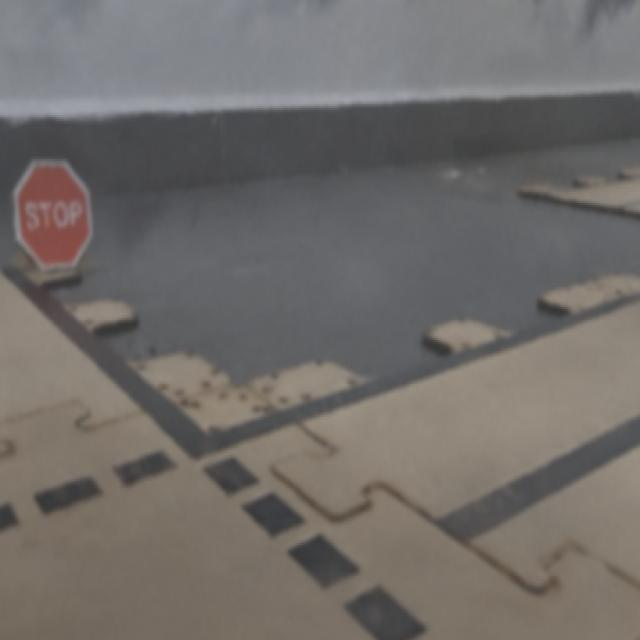STOP: (14, 161, 91, 271)
